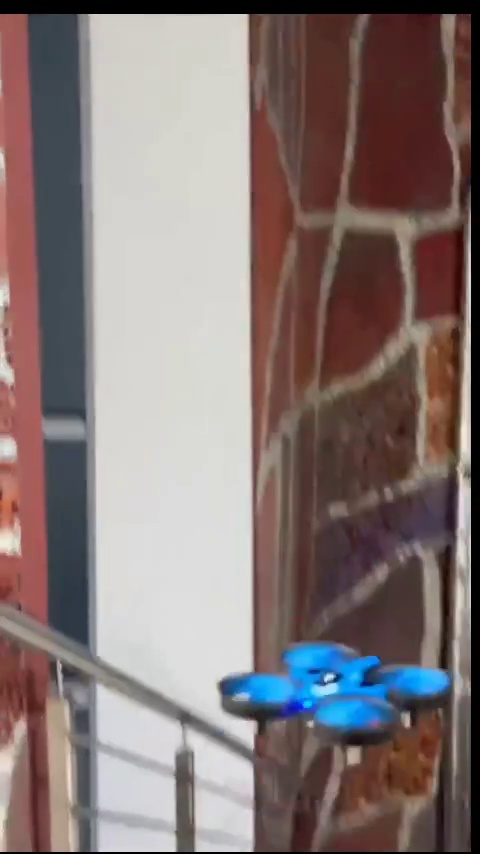drone: (224, 643, 459, 755)
